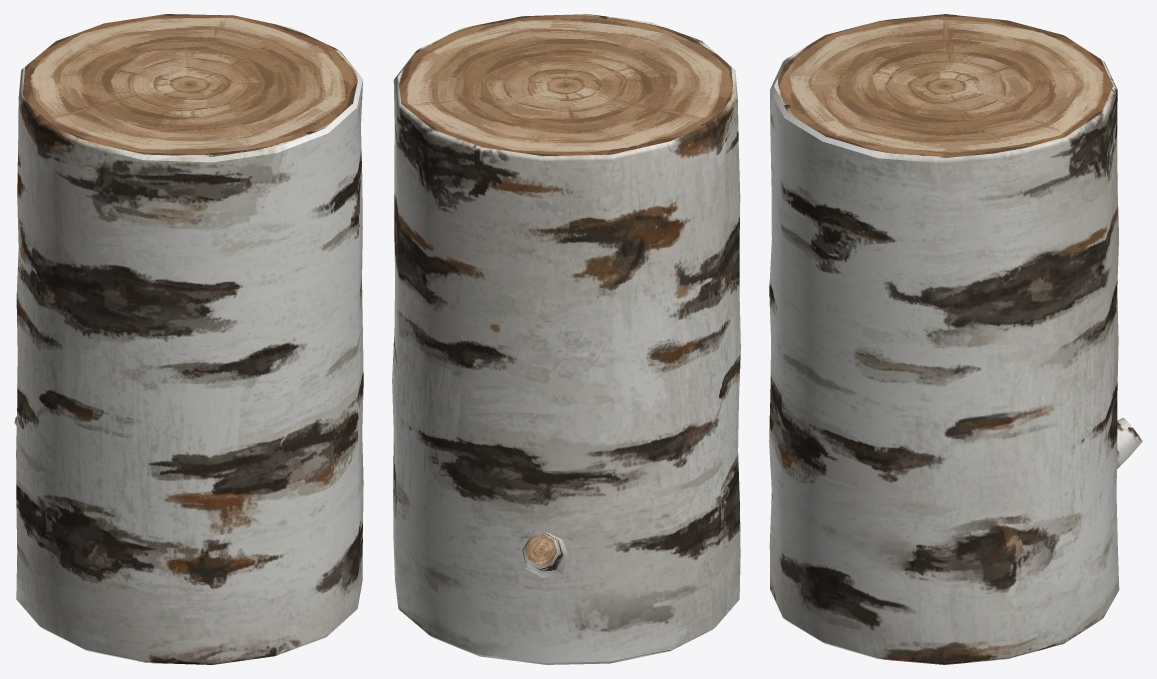
The model's file is birch_log_04.fbx.
3 views of the same model, side by side, from view 1: azimuth 30°, elevation 25°; view 2: azimuth 150°, elevation 25°; view 3: azimuth 270°, elevation 25° (orthographic).
Visible parts, largest first — view 1: SM_Log_004; view 2: SM_Log_004; view 3: SM_Log_004.
Boxes of the visible parts, x1=… form: SM_Log_004: x1=14, y1=14, x2=363, y2=664; SM_Log_004: x1=392, y1=14, x2=740, y2=664; SM_Log_004: x1=769, y1=14, x2=1142, y2=664.
Bounding box in the file's own units: 1.73 × 2.76 × 1.84.
2 materials, 2 textured.
